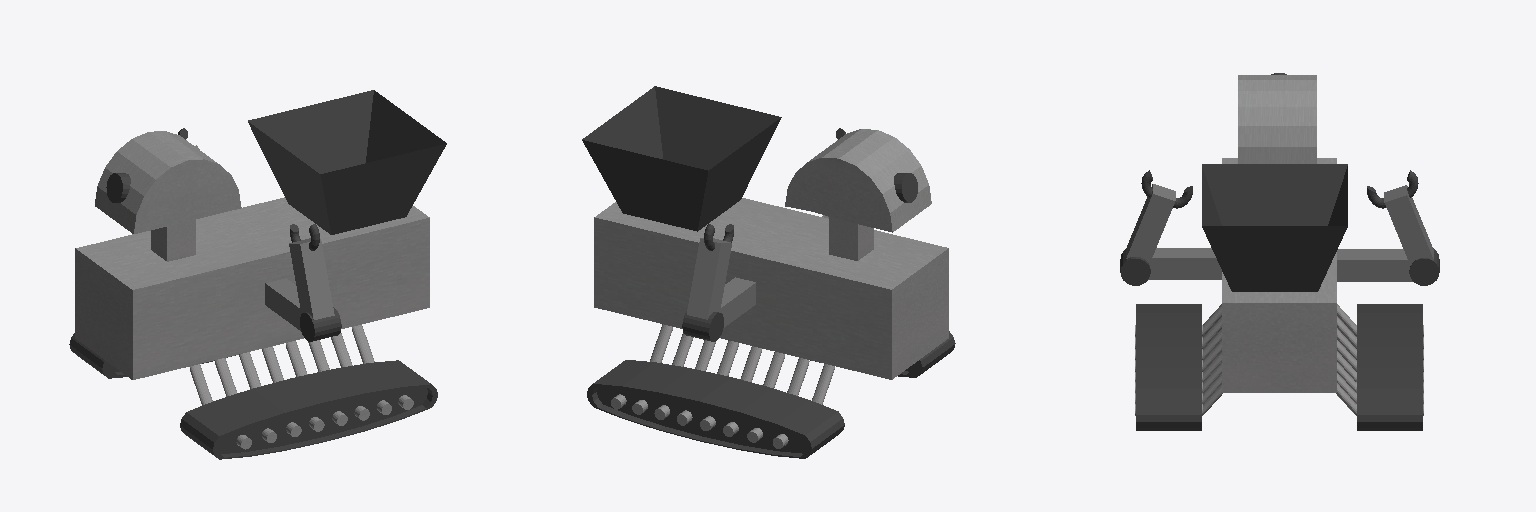
3 views of the same model, side by side, from view 1: azimuth 30°, elevation 25°; view 2: azimuth 150°, elevation 25°; view 3: azimuth 270°, elevation 25° (orthographic).
Visible parts, largest first — view 1: pCube3, pCube7, pCylinder25, pCylinder55, pasted__pCube5 group20, pCube4, pCube5, pasted__pCylinder56 group19, pCylinder47, pCylinder26, pCylinder45, pCylinder39 (+6 smaller); view 2: pCube3, pCube7, pCylinder47, pCylinder55, polySurface1 pasted__pCube6, pCube4, pasted__pCube6 polySurface5, pasted__pCube6 polySurface4, pCylinder25, pCylinder46, pCylinder50, pCylinder54 (+6 smaller); view 3: pCube7, pCube3, pCylinder25, pCylinder47, pCylinder55, pasted__pCube6 polySurface5, pCube5, pasted__pCube5 group20, polySurface1 pasted__pCube6, pasted__pCylinder56 group19, pasted__pCube6 polySurface4.
Boxes of the visible parts, x1,y1,x2,y2 form: pCube3: [75, 197, 429, 379]; pCube7: [248, 90, 446, 234]; pCylinder25: [180, 360, 437, 459]; pCylinder55: [95, 131, 241, 233]; pasted__pCube5 group20: [289, 238, 334, 319]; pCube4: [151, 220, 195, 261]; pCube5: [265, 278, 300, 330]; pasted__pCylinder56 group19: [300, 307, 341, 341]; pCylinder47: [69, 333, 239, 378]; pCylinder26: [190, 364, 251, 449]; pCylinder45: [352, 325, 413, 409]; pCylinder39: [215, 358, 276, 442]; pCube3: [594, 198, 948, 379]; pCube7: [582, 86, 781, 231]; pCylinder47: [587, 360, 844, 458]; pCylinder55: [785, 129, 931, 232]; polySurface1 pasted__pCube6: [687, 238, 731, 319]; pCube4: [829, 217, 873, 260]; pasted__pCube6 polySurface5: [720, 277, 755, 327]; pasted__pCube6 polySurface4: [682, 311, 723, 341]; pCylinder25: [810, 331, 955, 377]; pCylinder46: [773, 364, 834, 448]; pCylinder50: [611, 324, 672, 409]; pCylinder54: [747, 358, 809, 442]; pCube7: [1202, 164, 1347, 291]; pCube3: [1222, 158, 1336, 392]; pCylinder25: [1136, 304, 1201, 430]; pCylinder47: [1357, 304, 1422, 430]; pCylinder55: [1238, 75, 1316, 163]; pasted__pCube6 polySurface5: [1337, 249, 1414, 281]; pCube5: [1148, 248, 1221, 279]; pasted__pCube5 group20: [1126, 184, 1175, 264]; polySurface1 pasted__pCube6: [1384, 185, 1433, 260]; pasted__pCylinder56 group19: [1120, 249, 1150, 285]; pasted__pCube6 polySurface4: [1409, 248, 1439, 285].
Size of the model in its own units: 1.31 by 1.09 by 1.19.
Materials: 4 (2 with a texture image).